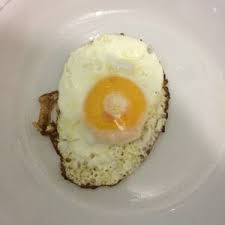Telur ceplok: (37, 33, 170, 188)
